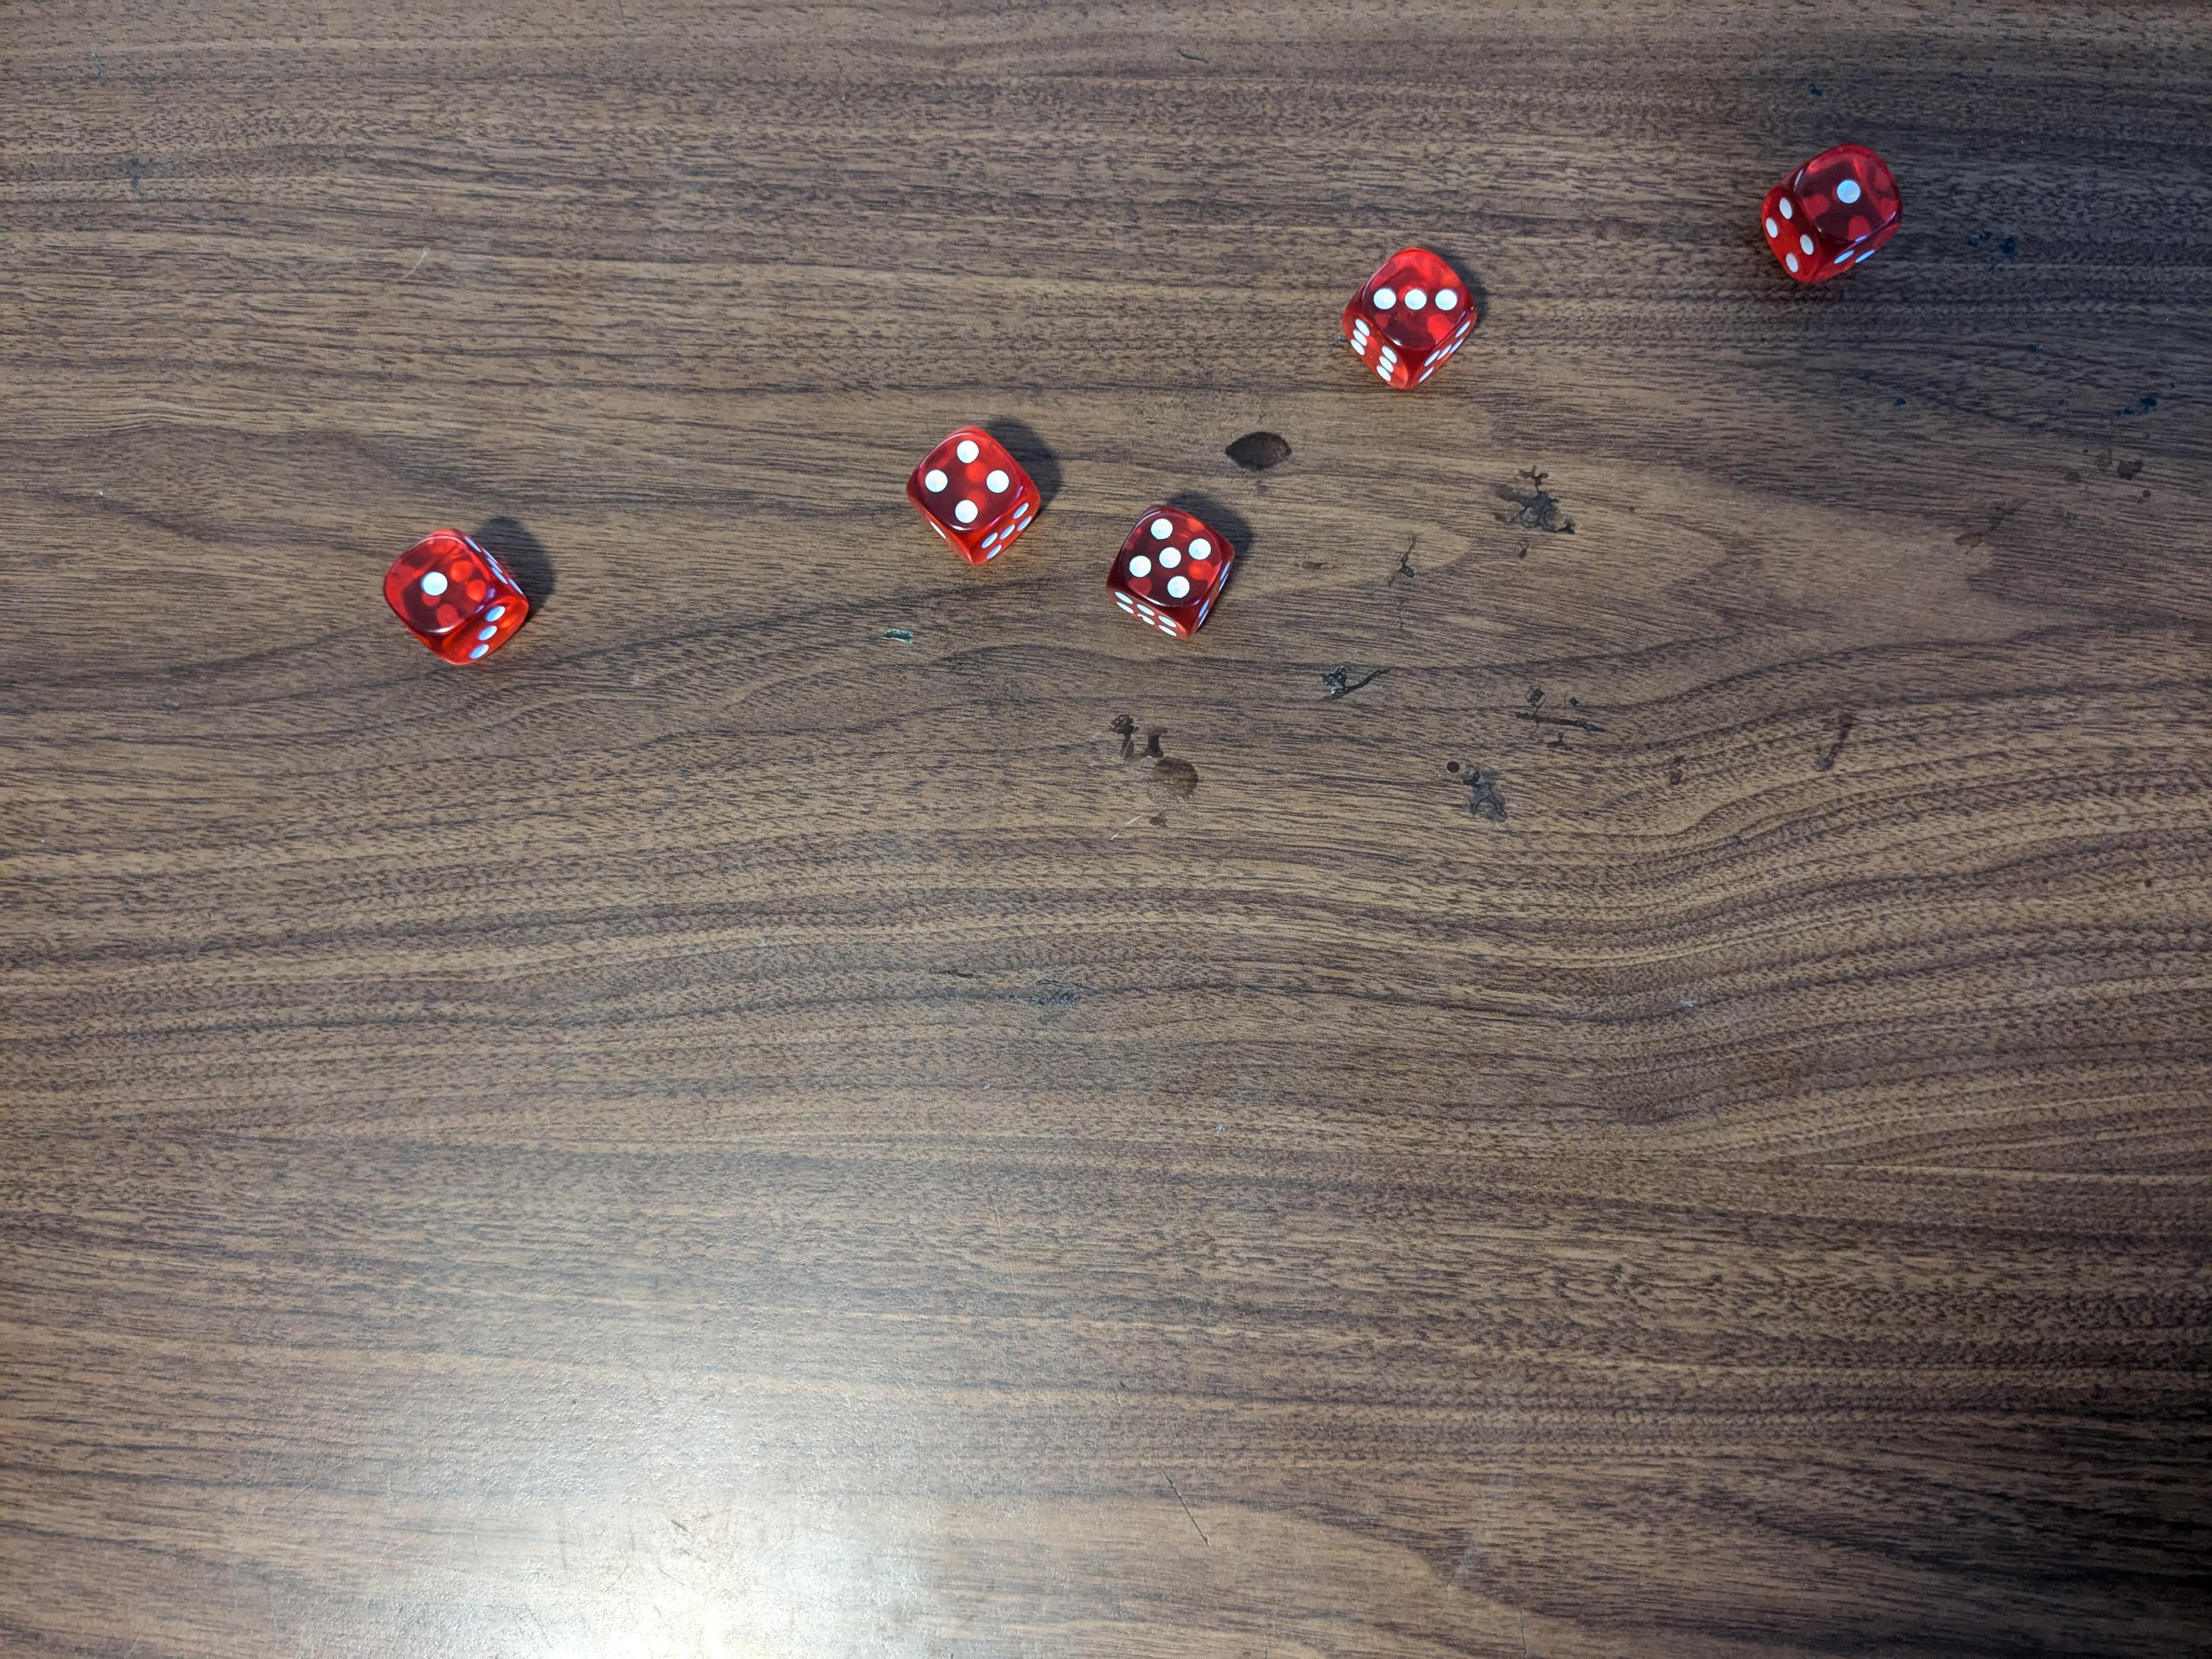five: (1109, 500, 1237, 633)
four: (904, 420, 1042, 556)
one: (1768, 122, 1909, 288), (374, 528, 535, 671)
three: (1338, 237, 1480, 382)
